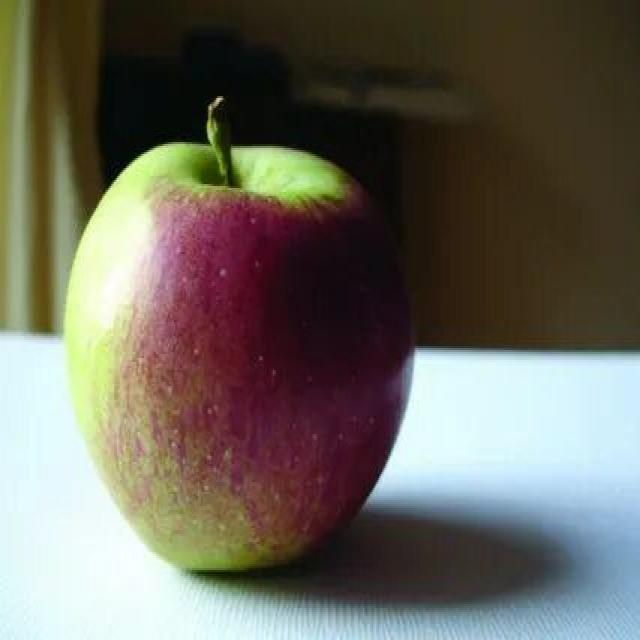Fresh Apple: (64, 127, 422, 579)
